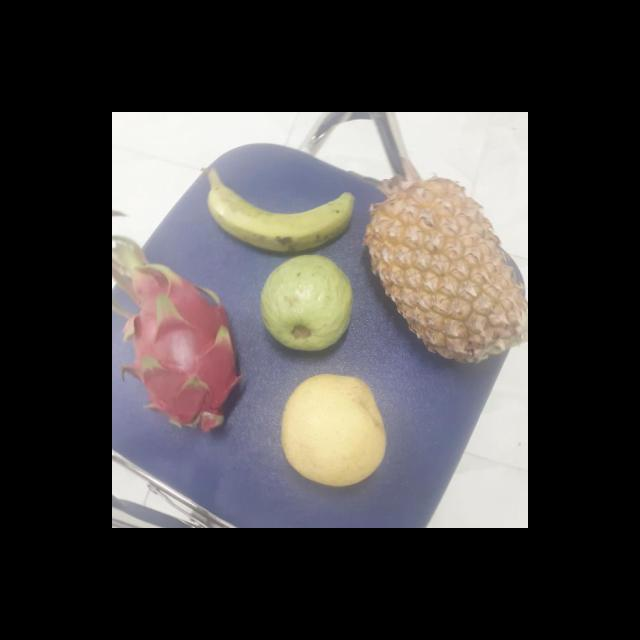banana: (213, 178, 359, 254)
guava: (262, 256, 357, 350)
pear: (274, 374, 392, 486)
pineapple: (368, 185, 528, 362)
pitaya: (120, 267, 252, 437)
